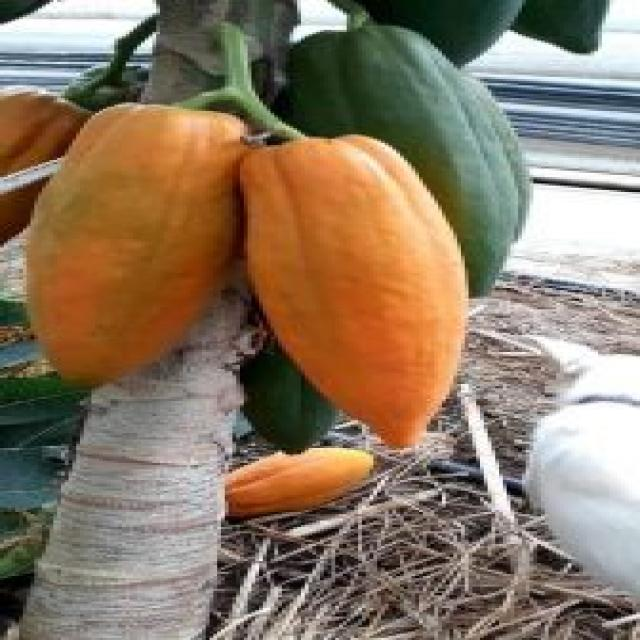Pepaya rippen: (244, 134, 461, 442), (27, 102, 232, 382), (217, 446, 396, 516)
